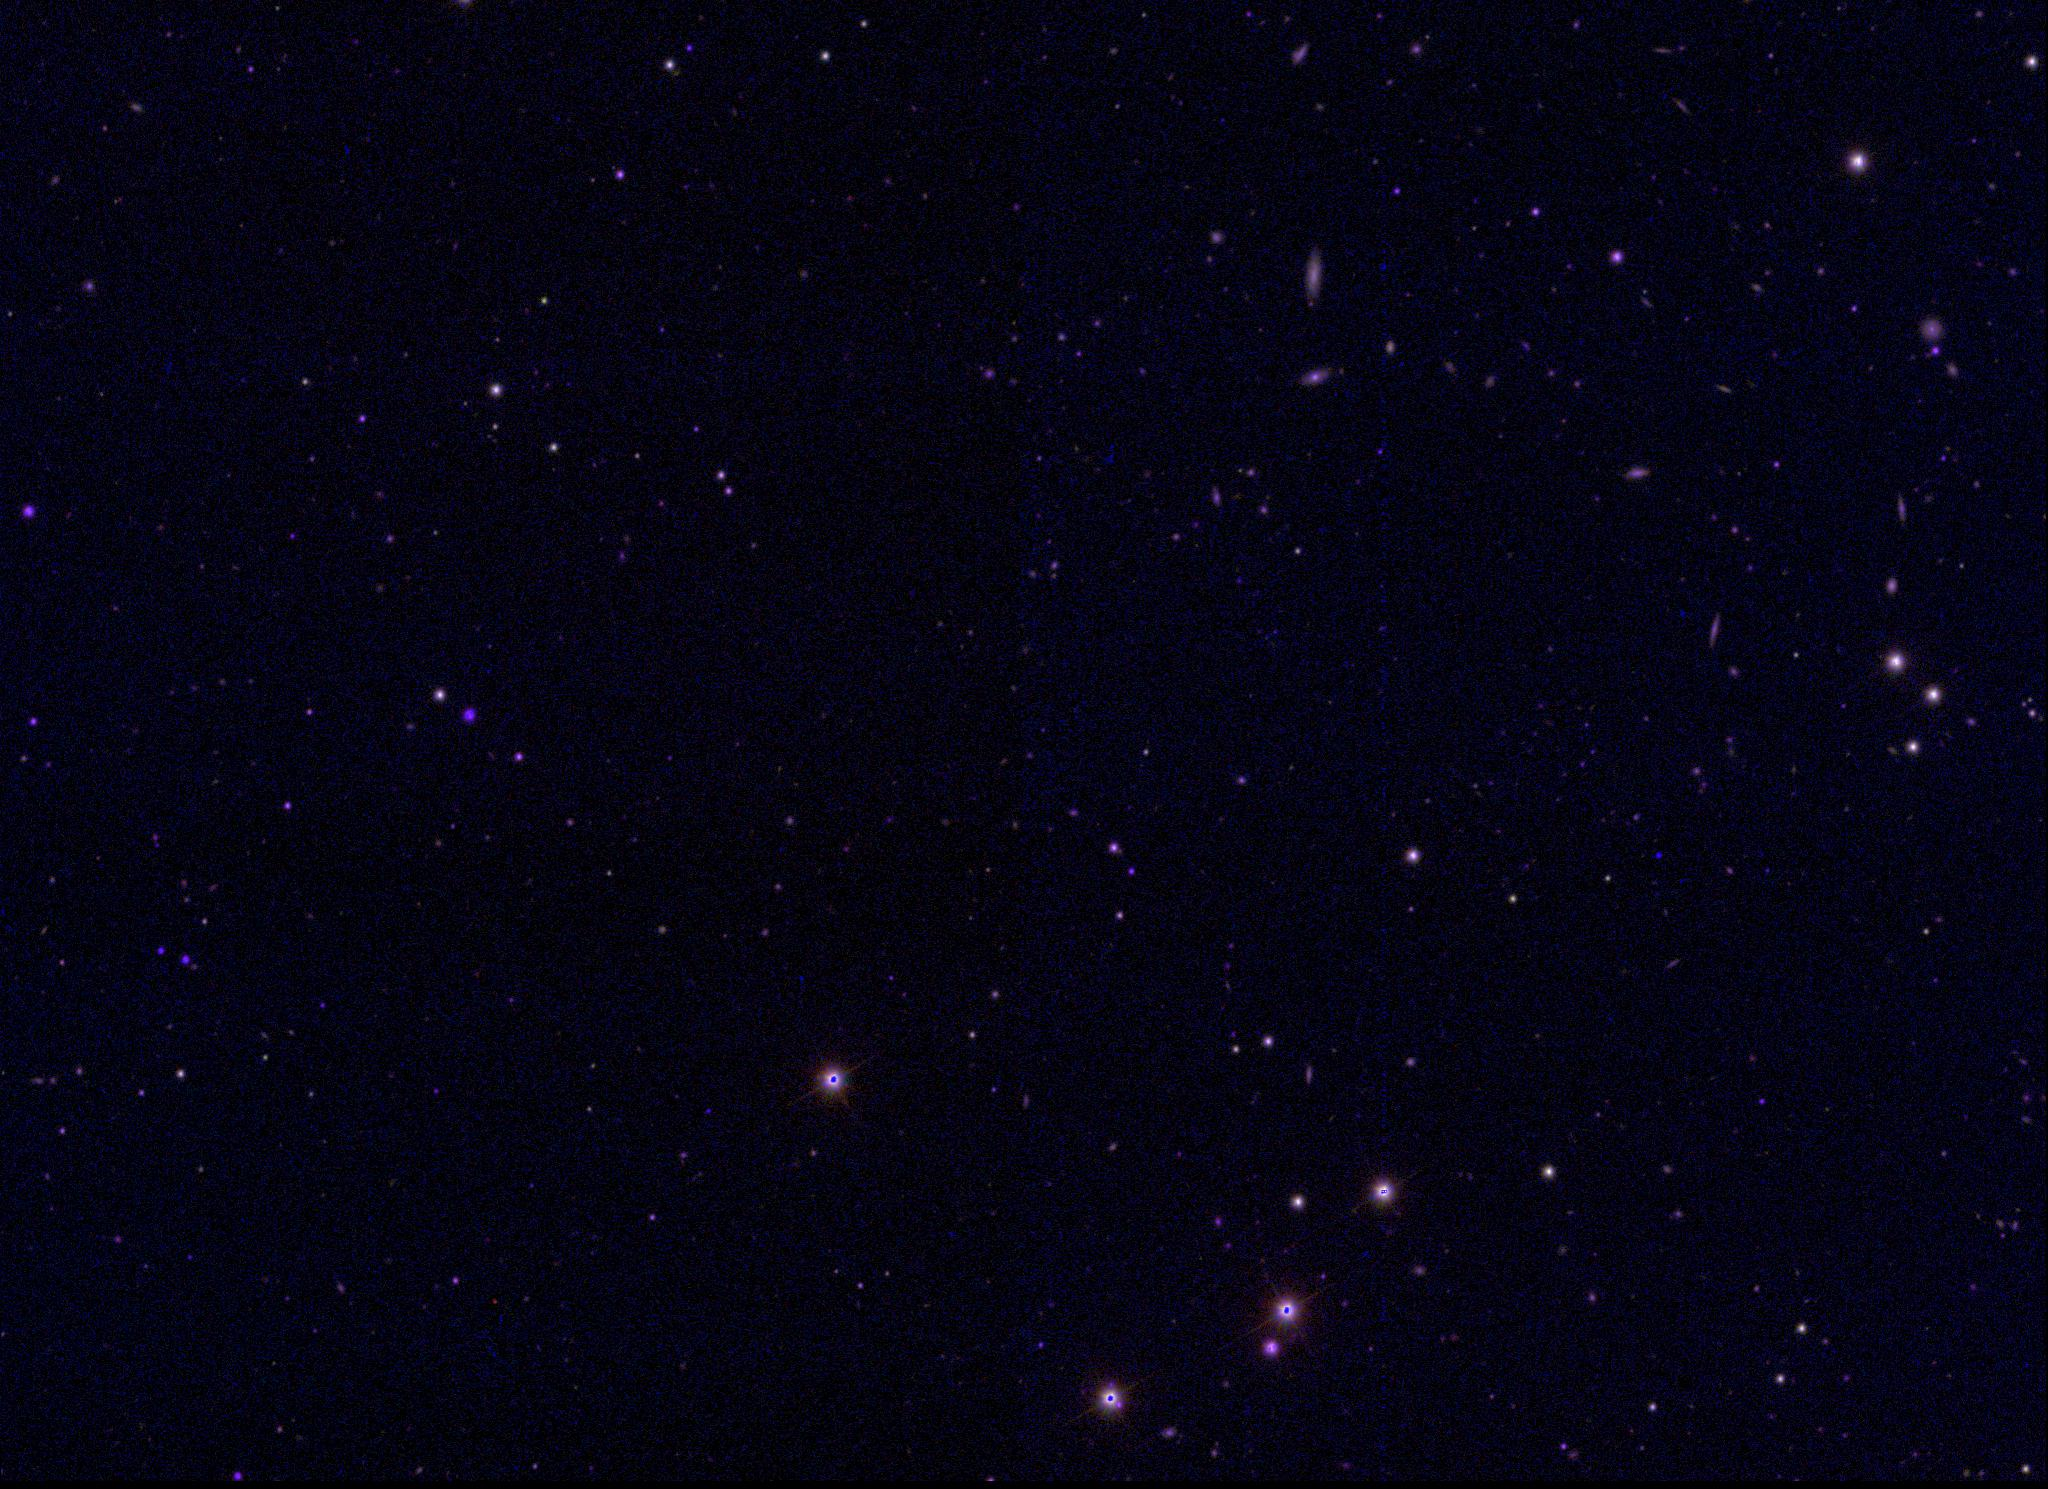L: (1652, 849, 1666, 862)
